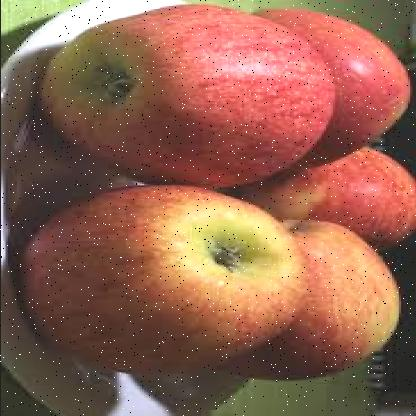apple: (50, 7, 312, 170), (41, 196, 291, 366), (235, 217, 404, 383), (266, 18, 402, 166), (278, 148, 412, 242)
